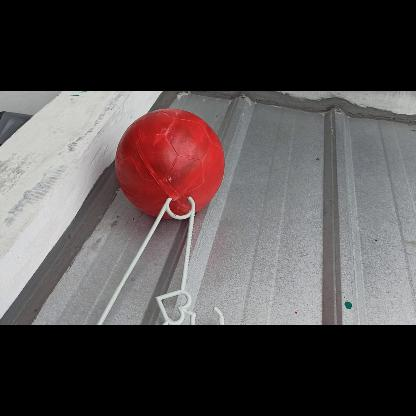red_ball: (115, 108, 226, 218)
